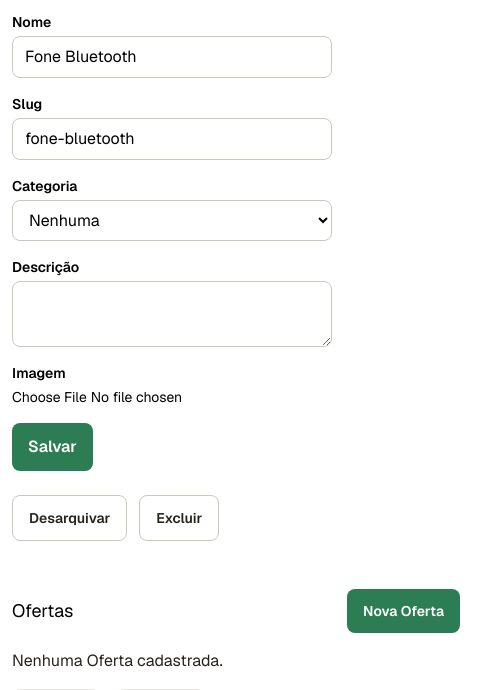
Test: ProductDetail › REGRESSÃO: desarquivar com sucesso (POST 200 + ProductAdmin sem offers) troca o botão de volta para "Arquivar", sem erro
Click the button "Desarquivar". click: (70, 518)
box: [12, 495, 127, 541]
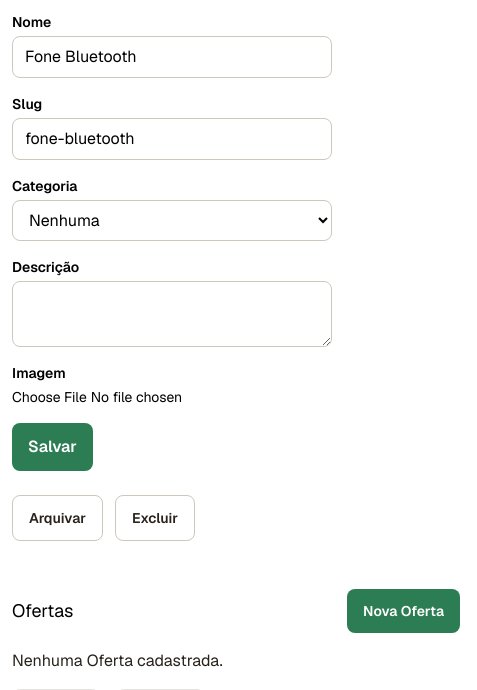
Expected: the button "Arquivar" is shown, [12, 495, 103, 541]
Expected: the button "Desarquivar" is gone
